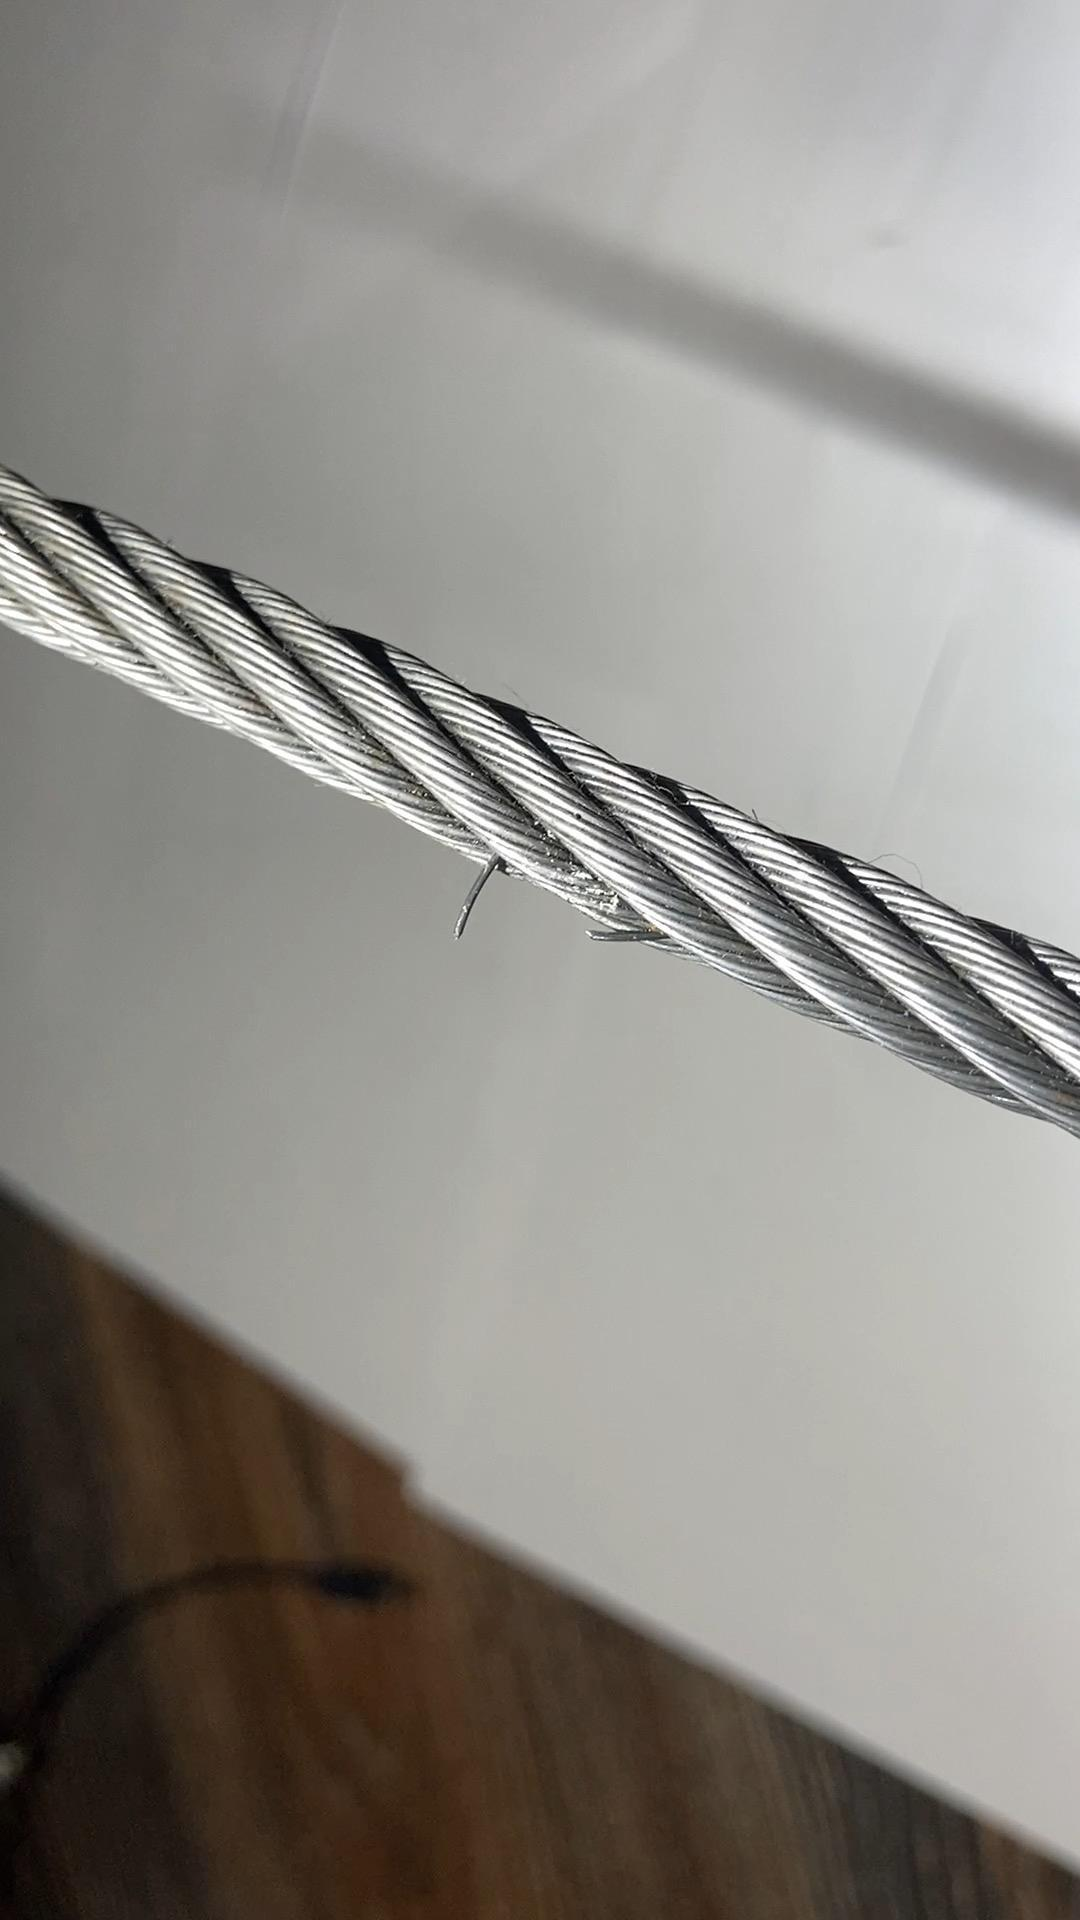break: (436, 825, 521, 945)
